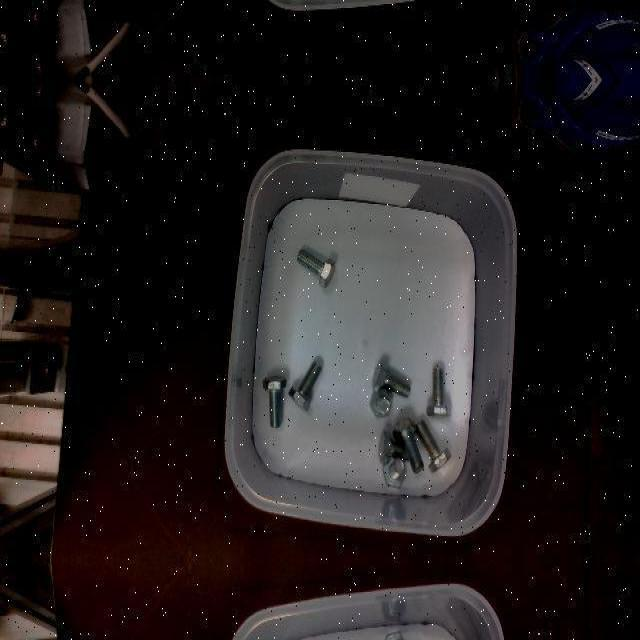screw: (415, 418, 451, 472), (392, 418, 424, 474), (288, 361, 322, 411), (296, 248, 335, 288), (372, 358, 410, 396), (426, 367, 451, 417), (262, 376, 286, 428), (382, 456, 406, 488), (368, 388, 392, 418), (382, 632, 406, 640)
